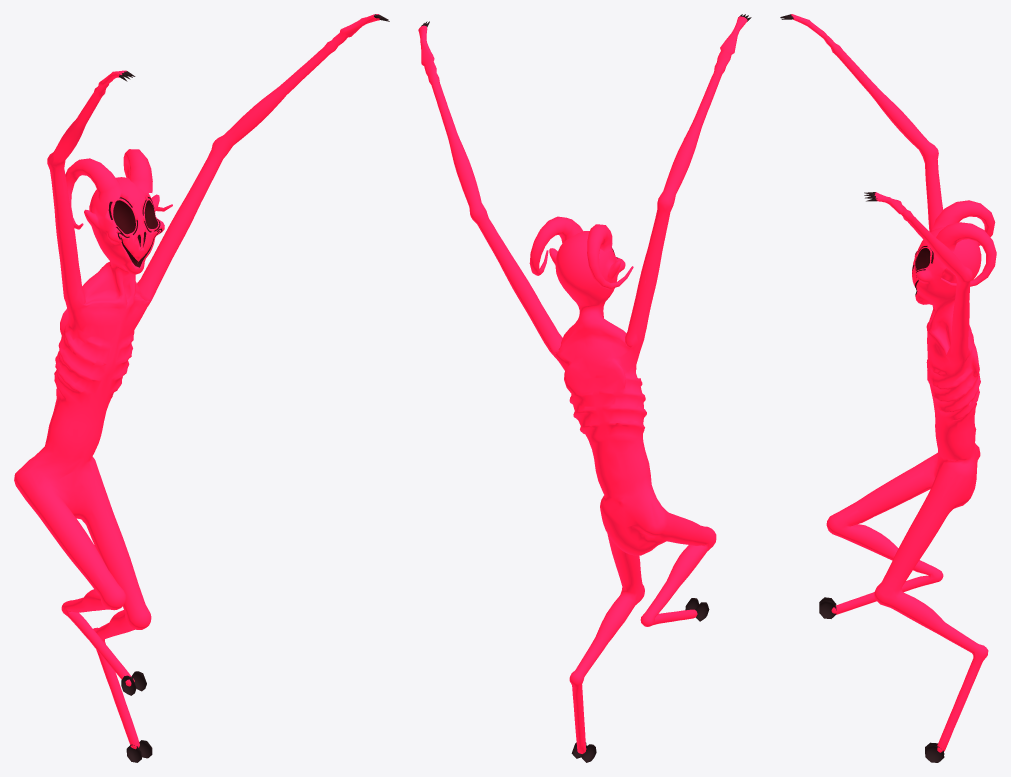
Rendered from devil_dance_a.glb.
The picture shows the model from 3 angles, left to right: view 1: azimuth 30°, elevation 25°; view 2: azimuth 150°, elevation 25°; view 3: azimuth 270°, elevation 25°; orthographic projection. The views are drawn at different scales.
Parts seen in each view (by area): view 1: HWG_Devil_dance_a; view 2: HWG_Devil_dance_a; view 3: HWG_Devil_dance_a.
Boxes of the visible parts, x1,y1,x2,y2 form: HWG_Devil_dance_a: [14, 14, 389, 762]; HWG_Devil_dance_a: [418, 14, 751, 762]; HWG_Devil_dance_a: [780, 14, 996, 762].
Size of the model in its own units: 0.6302 by 1.45 by 0.4045.
